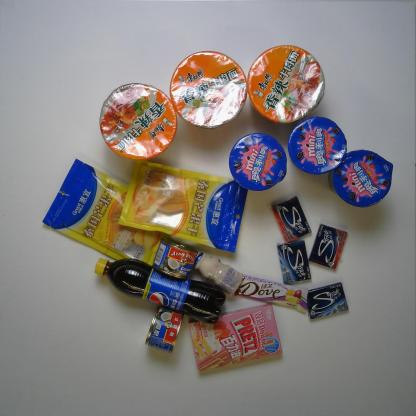Canned Food: (151, 237, 200, 281), (144, 306, 185, 354)
Chocolate: (233, 272, 310, 314)
Dessert: (188, 303, 284, 372), (328, 148, 395, 210), (287, 114, 348, 176), (228, 132, 288, 193)
Dried Fruit: (41, 158, 169, 267), (116, 158, 248, 253)
Drink: (94, 256, 227, 324)
Gum: (271, 195, 312, 243), (308, 223, 348, 271), (306, 281, 349, 320), (276, 239, 312, 284)
Instant Noodles: (246, 44, 327, 124), (169, 50, 249, 130), (98, 82, 178, 161)
Milk: (193, 251, 244, 296)
